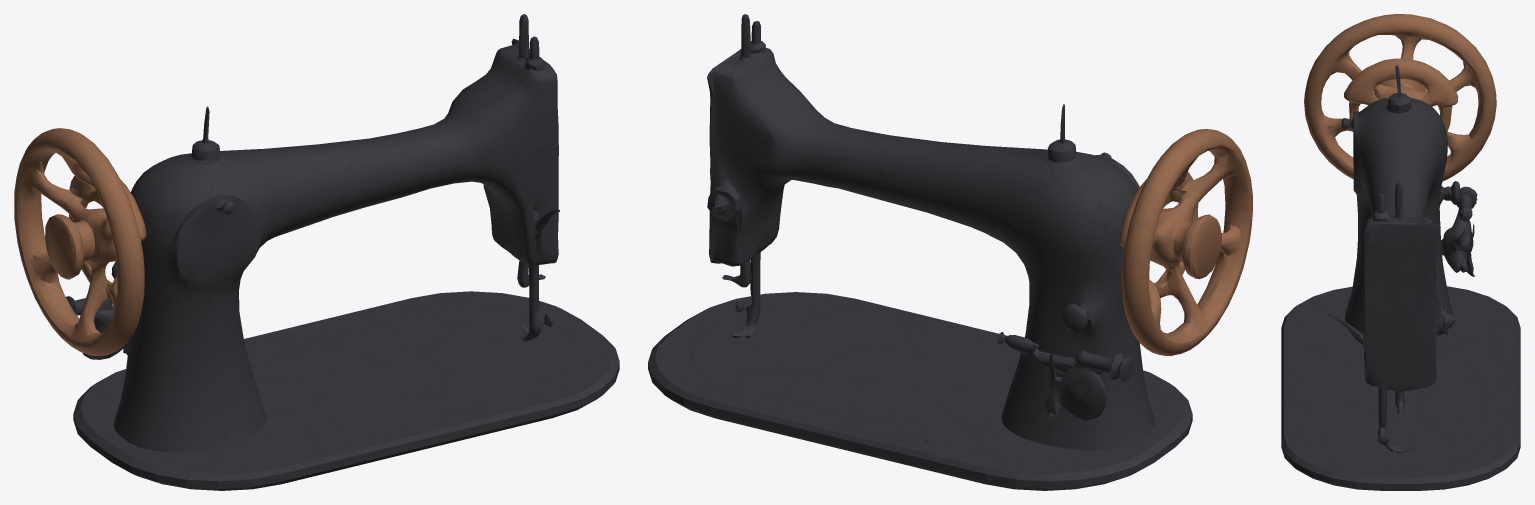
Rendered from sewingmachine.glb.
3 renders of one model, left to right at view 1: azimuth 30°, elevation 25°; view 2: azimuth 150°, elevation 25°; view 3: azimuth 270°, elevation 25°, orthographic. The views are drawn at different scales.
Visible parts, largest first — view 1: Retopo_singerSewingMachine.002; view 2: Retopo_singerSewingMachine.002; view 3: Retopo_singerSewingMachine.002.
Part boxes in pixels (x1=…): Retopo_singerSewingMachine.002: x1=14, y1=14, x2=619, y2=490; Retopo_singerSewingMachine.002: x1=648, y1=14, x2=1252, y2=490; Retopo_singerSewingMachine.002: x1=1281, y1=14, x2=1520, y2=490.
Size of the model in its own units: 0.7686 by 0.4723 by 0.3615.
Materials: 2 (2 with a texture image).
